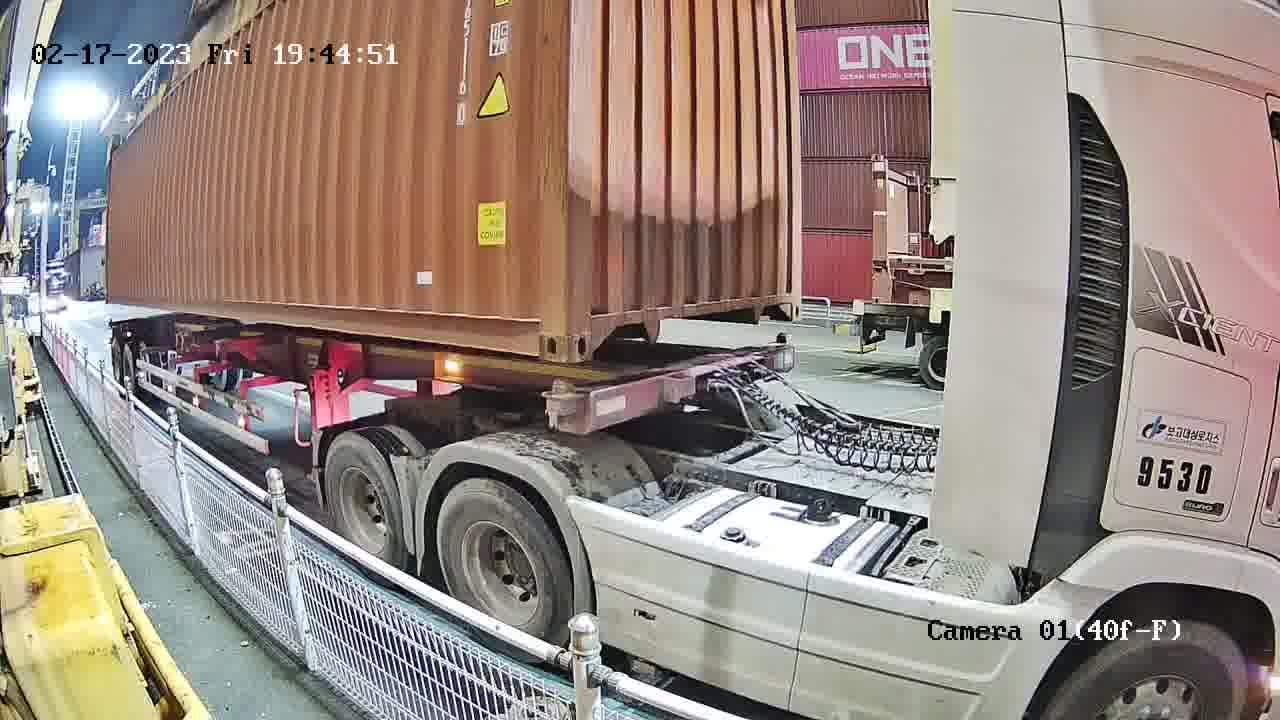Chassis: (550, 342, 792, 432)
Cone: (544, 377, 576, 427), (771, 333, 791, 350)
Hole_L: (566, 293, 619, 362)
Hole_R: (512, 296, 566, 365), (767, 275, 803, 323)
Tire: (440, 484, 566, 639), (326, 436, 400, 563)
